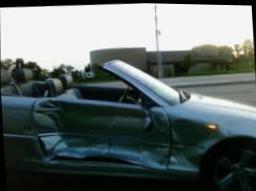Door: (37, 99, 174, 170)
